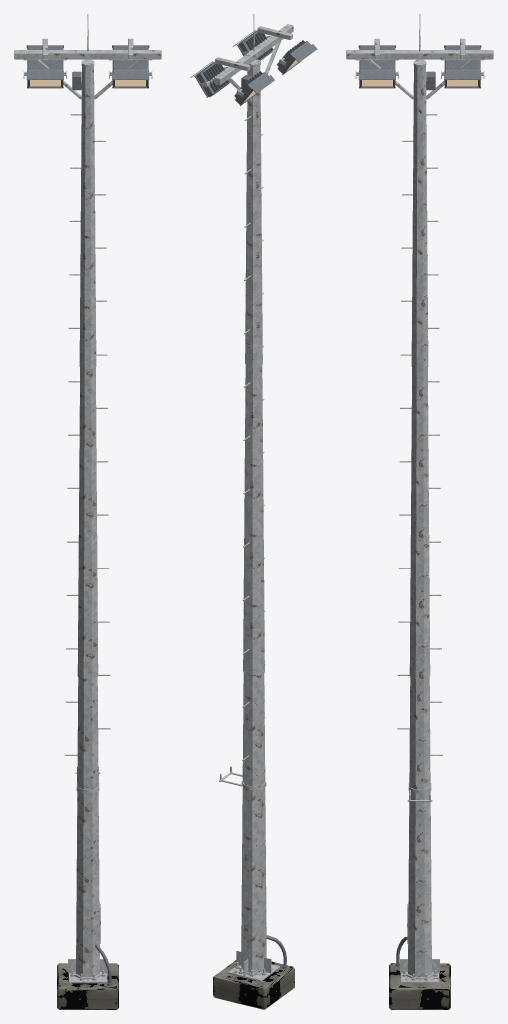
File: light_mast.glb
The picture shows the model from 3 angles, left to right: view 1: azimuth 90°, elevation 25°; view 2: azimuth 150°, elevation 25°; view 3: azimuth 270°, elevation 25°; orthographic projection.
Visible parts, largest first — view 1: light_mast; view 2: light_mast; view 3: light_mast.
Part boxes in pixels (x1=…): light_mast: x1=14, y1=14, x2=161, y2=1009; light_mast: x1=190, y1=14, x2=317, y2=1009; light_mast: x1=346, y1=14, x2=493, y2=1009.
Size of the model in its own units: 0.9919 by 14 by 1.9.
5 materials, 4 textured.
